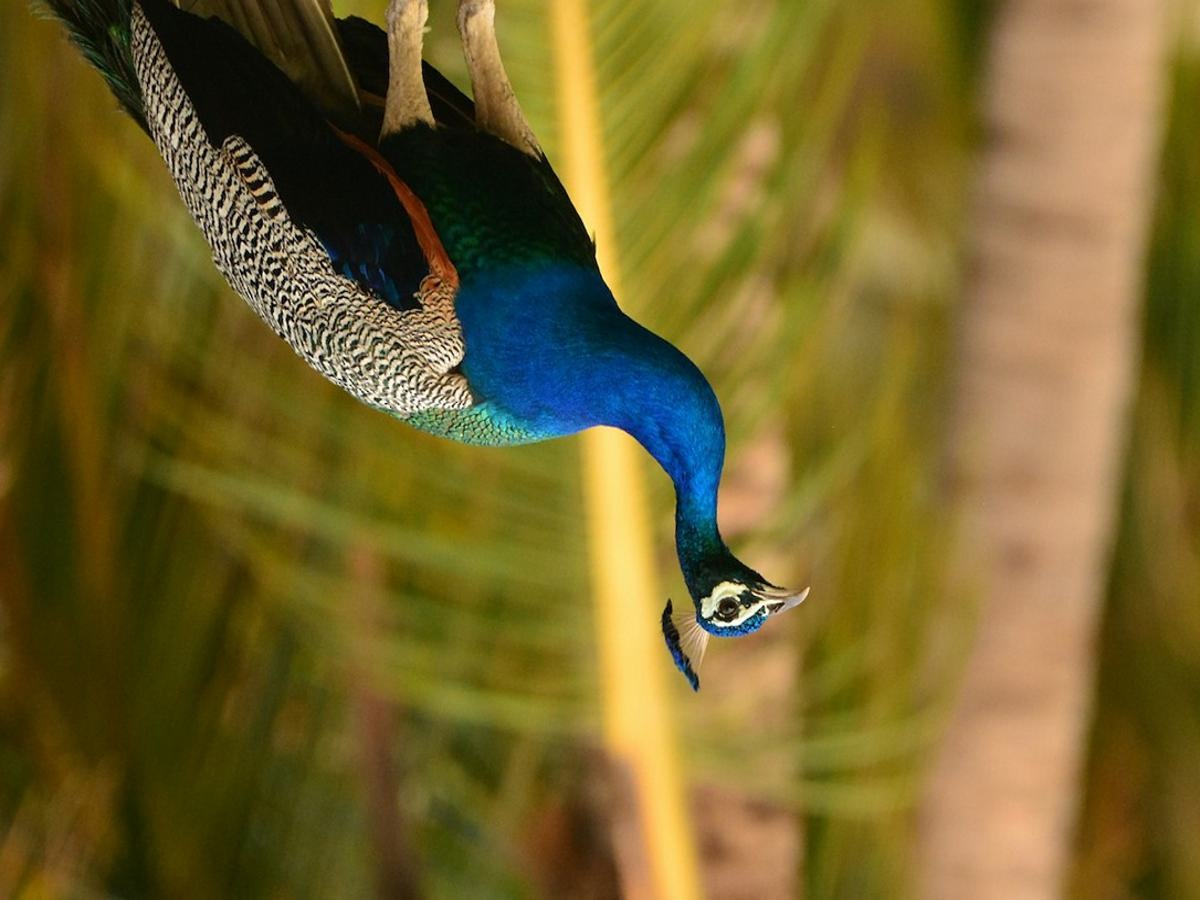peacock: (107, 13, 819, 708)
